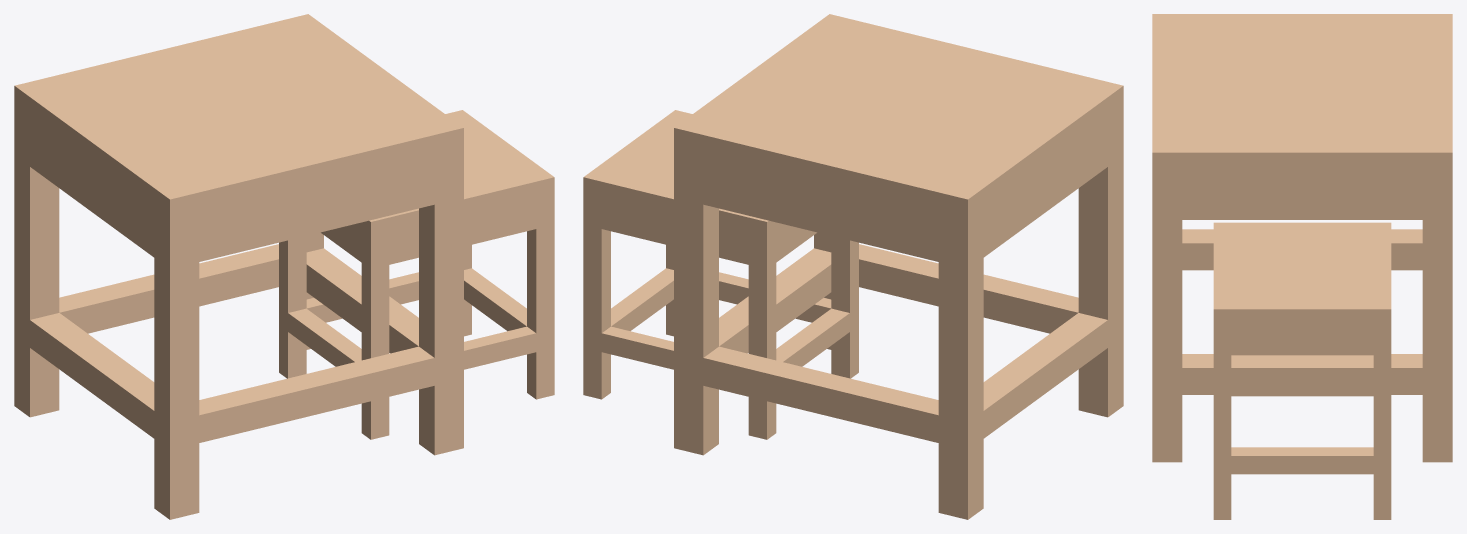
3 views of the same model, side by side, from view 1: azimuth 30°, elevation 25°; view 2: azimuth 150°, elevation 25°; view 3: azimuth 270°, elevation 25° (orthographic). The views are drawn at different scales.
Visible parts, largest first — view 1: side-table-nested-main, side-table-top, side-table-nested-small; view 2: side-table-nested-main, side-table-top, side-table-nested-small; view 3: side-table-nested-main, side-table-top, side-table-nested-small.
Part boxes in pixels (x1=…): side-table-nested-main: x1=14, y1=86, x2=463, y2=519; side-table-top: x1=15, y1=14, x2=463, y2=199; side-table-nested-small: x1=279, y1=110, x2=554, y2=439; side-table-nested-main: x1=674, y1=86, x2=1123, y2=519; side-table-top: x1=674, y1=14, x2=1122, y2=199; side-table-nested-small: x1=583, y1=110, x2=858, y2=439; side-table-nested-main: x1=1152, y1=152, x2=1452, y2=462; side-table-top: x1=1152, y1=14, x2=1452, y2=152; side-table-nested-small: x1=1213, y1=222, x2=1391, y2=519.
Size of the model in its own units: 0.68 by 0.5 by 0.44.
